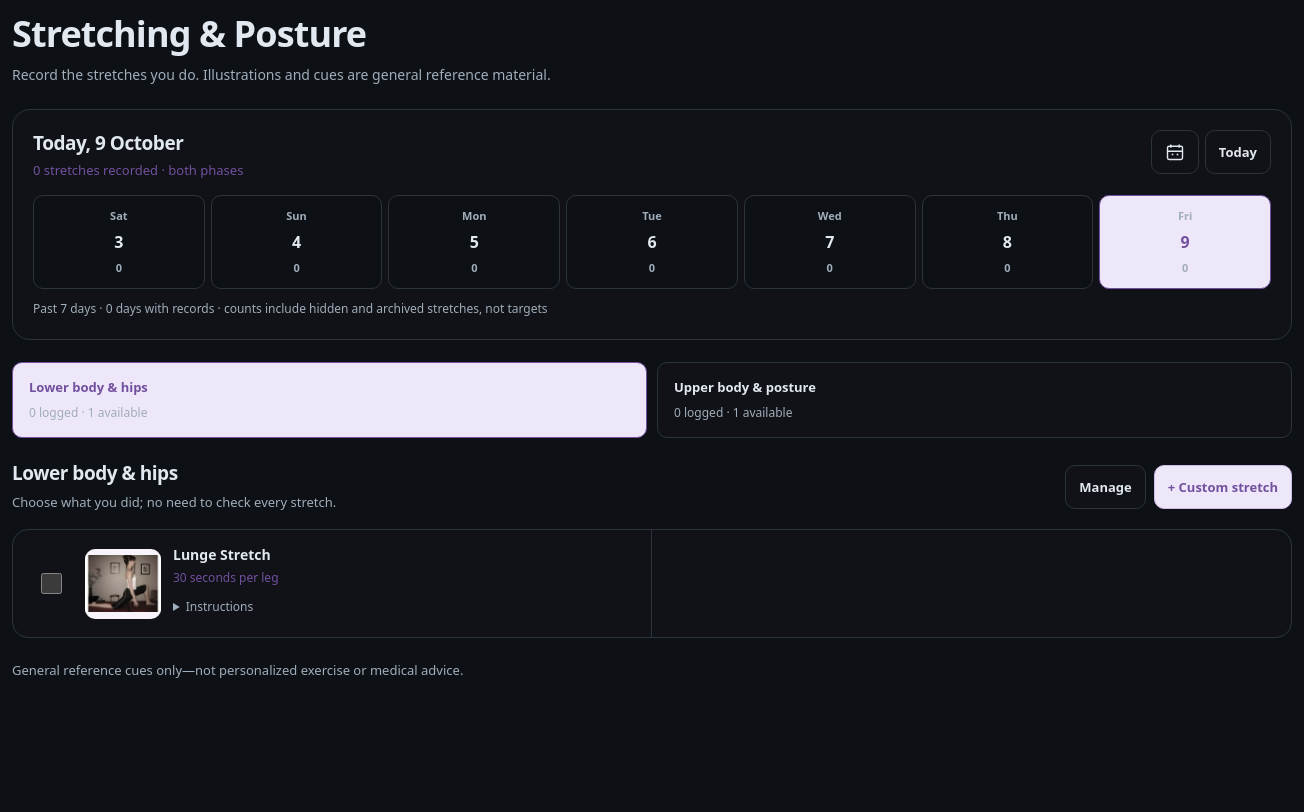
Test: StretchingScreen › expands instructions without recording a stretch
Expected: the text "Move the hip forward while keeping the lower back quiet." is not shown
Step 1. Click the heading "Instructions" → x=220, y=607, box [186,598,253,615]
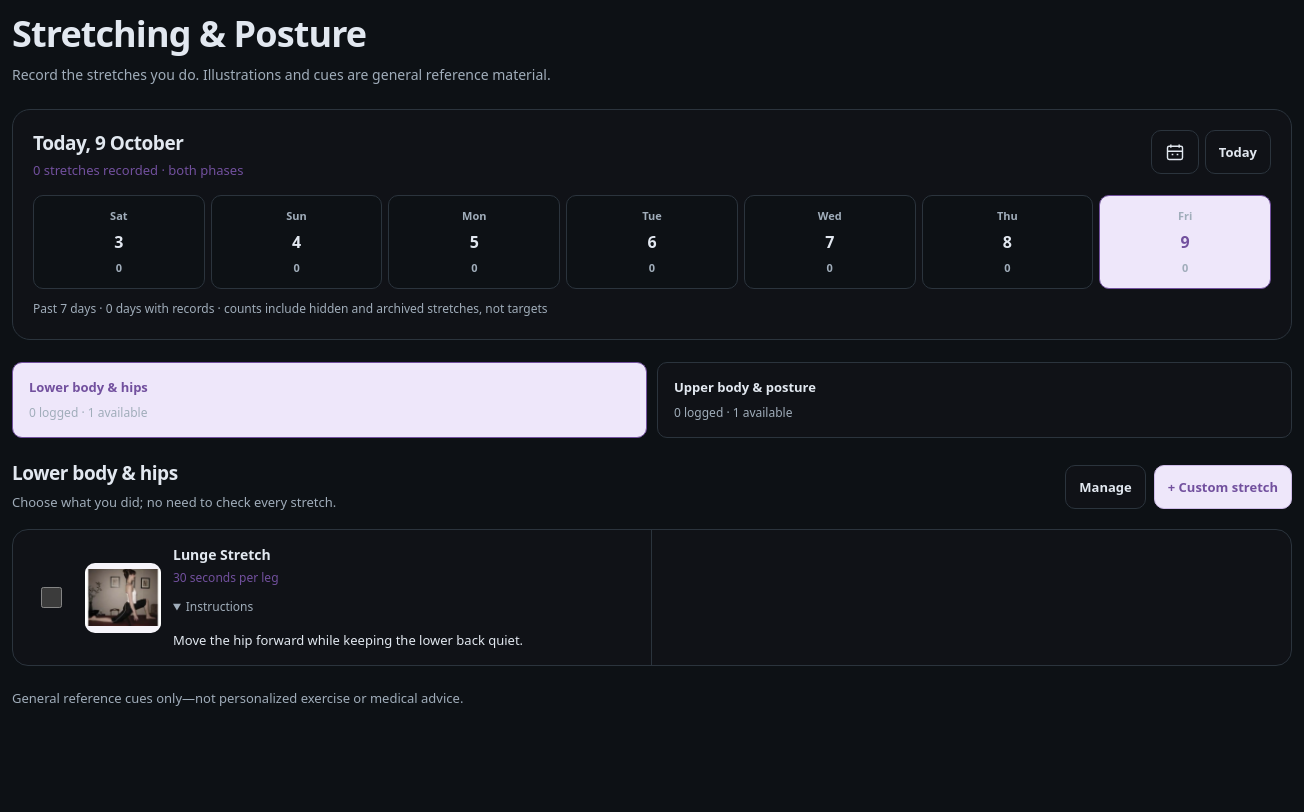
Expected: the checkbox labelled "Lunge Stretch" is not checked, [40,587,62,608]
Now the text "Move the hip forward while keeping the lower back quiet." is shown, box [173,631,523,649]
